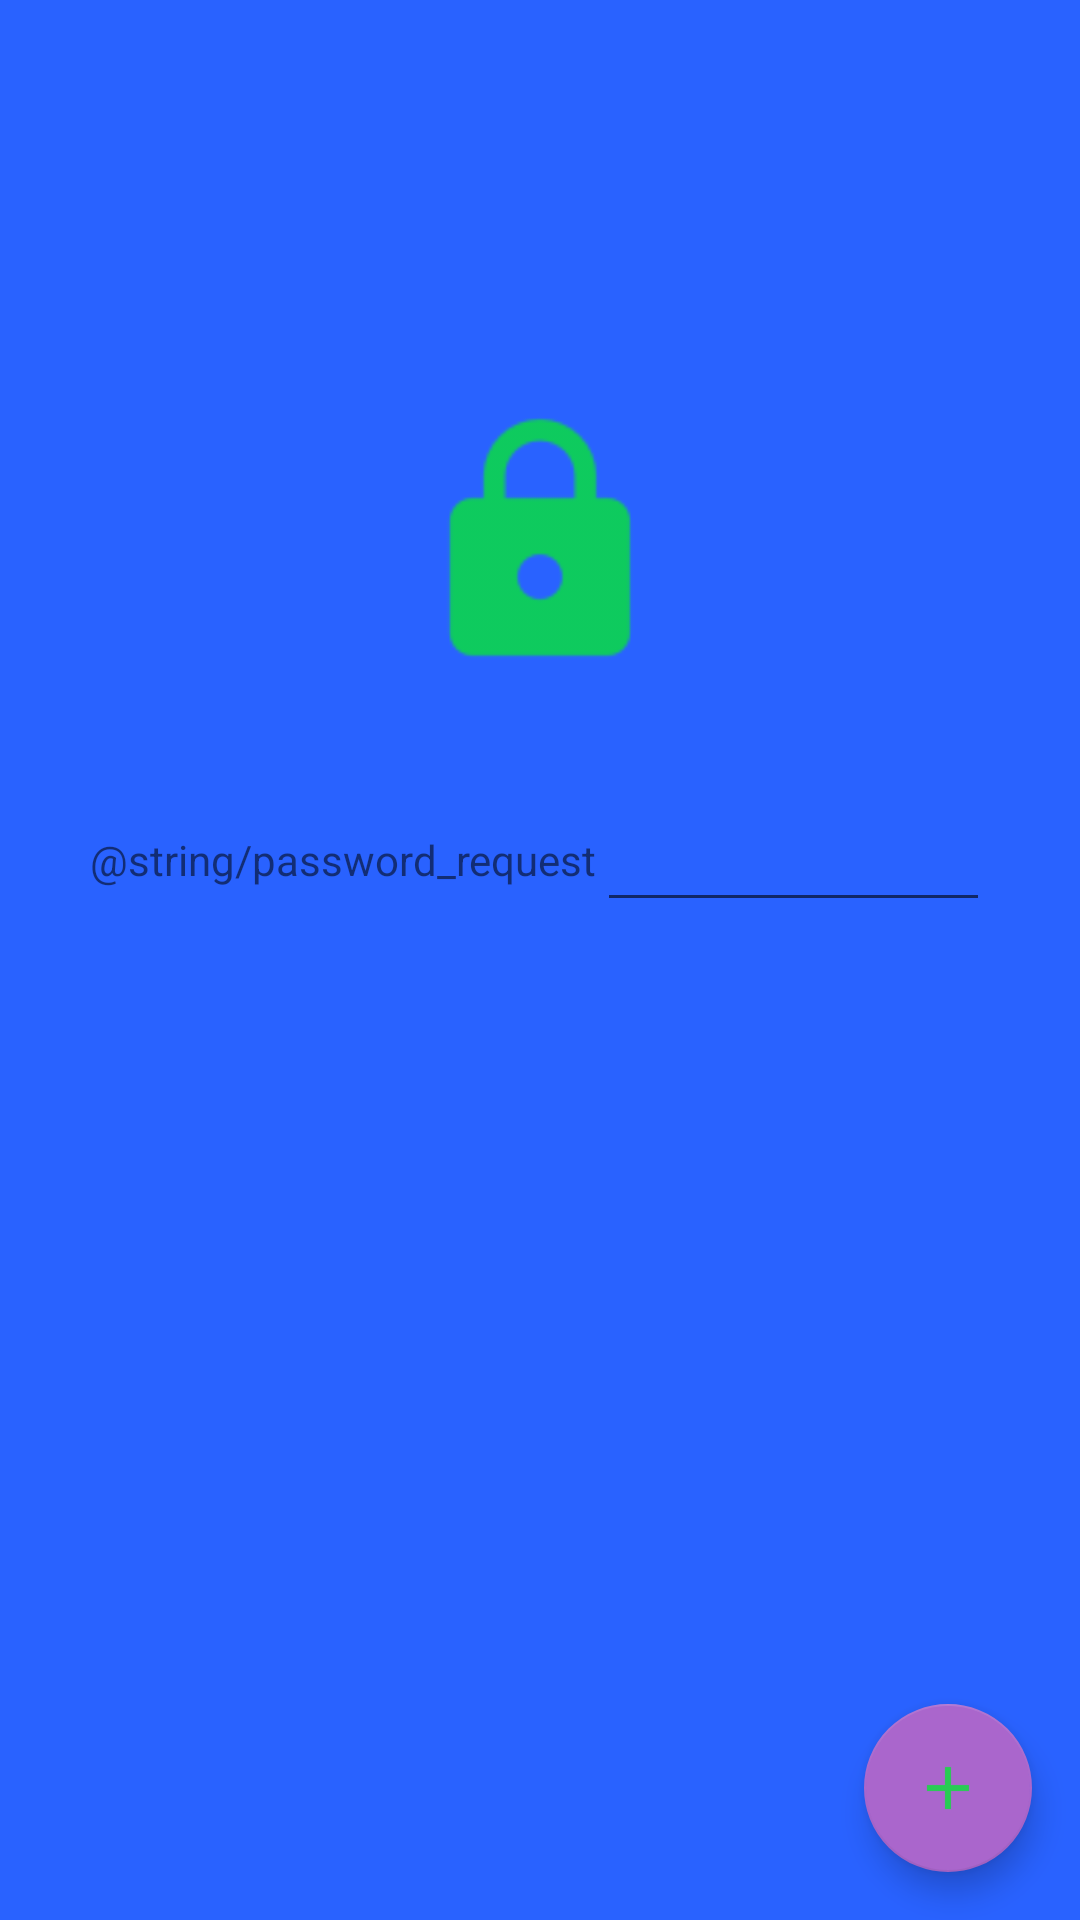

Where icons sit on this 1080px×1920px app screen, as (x1=x1, y1=y1, x2=x2, y2=y2):
add: (x1=864, y1=1704, x2=1032, y2=1872)
lock: (x1=449, y1=418, x2=631, y2=657)
